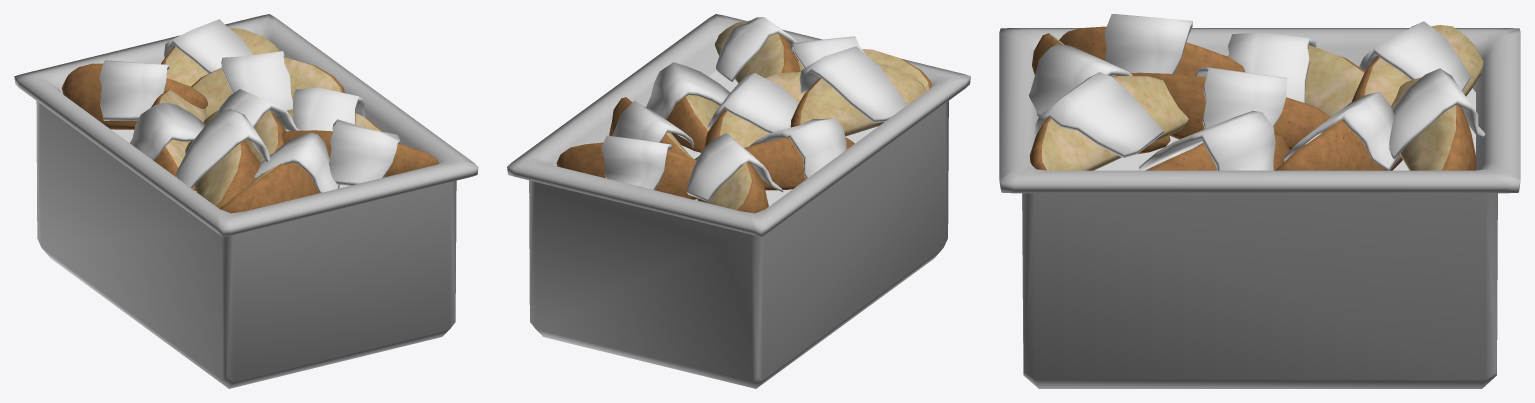
Rendered from bacon_vart.fbx.
The picture shows the model from 3 angles, left to right: view 1: azimuth 30°, elevation 25°; view 2: azimuth 150°, elevation 25°; view 3: azimuth 270°, elevation 25°; orthographic projection. The views are drawn at different scales.
Visible parts, largest first — view 1: bacon_vat; view 2: bacon_vat; view 3: bacon_vat.
Part boxes in pixels (x1,y1,x2,y2): bacon_vat: (14,14,478,388); bacon_vat: (507,14,970,388); bacon_vat: (999,14,1520,388).
Bounding box in the file's own units: 9.7 × 8.06 × 13.71.
